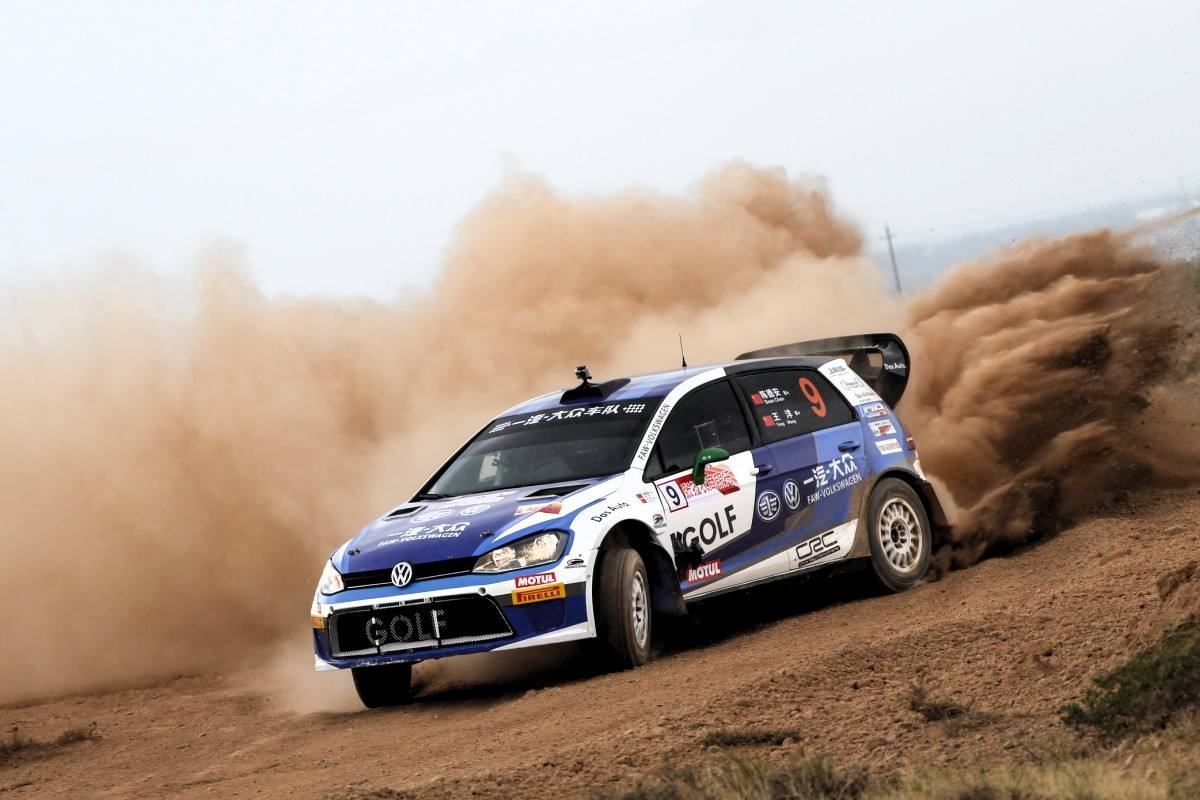racing car: (305, 334, 943, 703)
